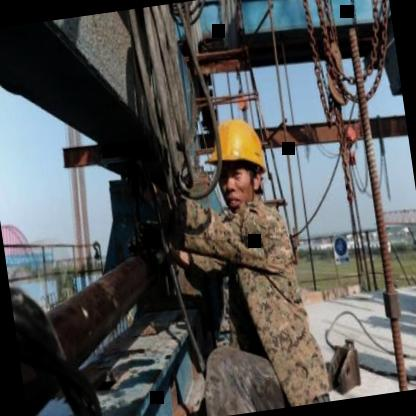helmet: (204, 105, 278, 218)
